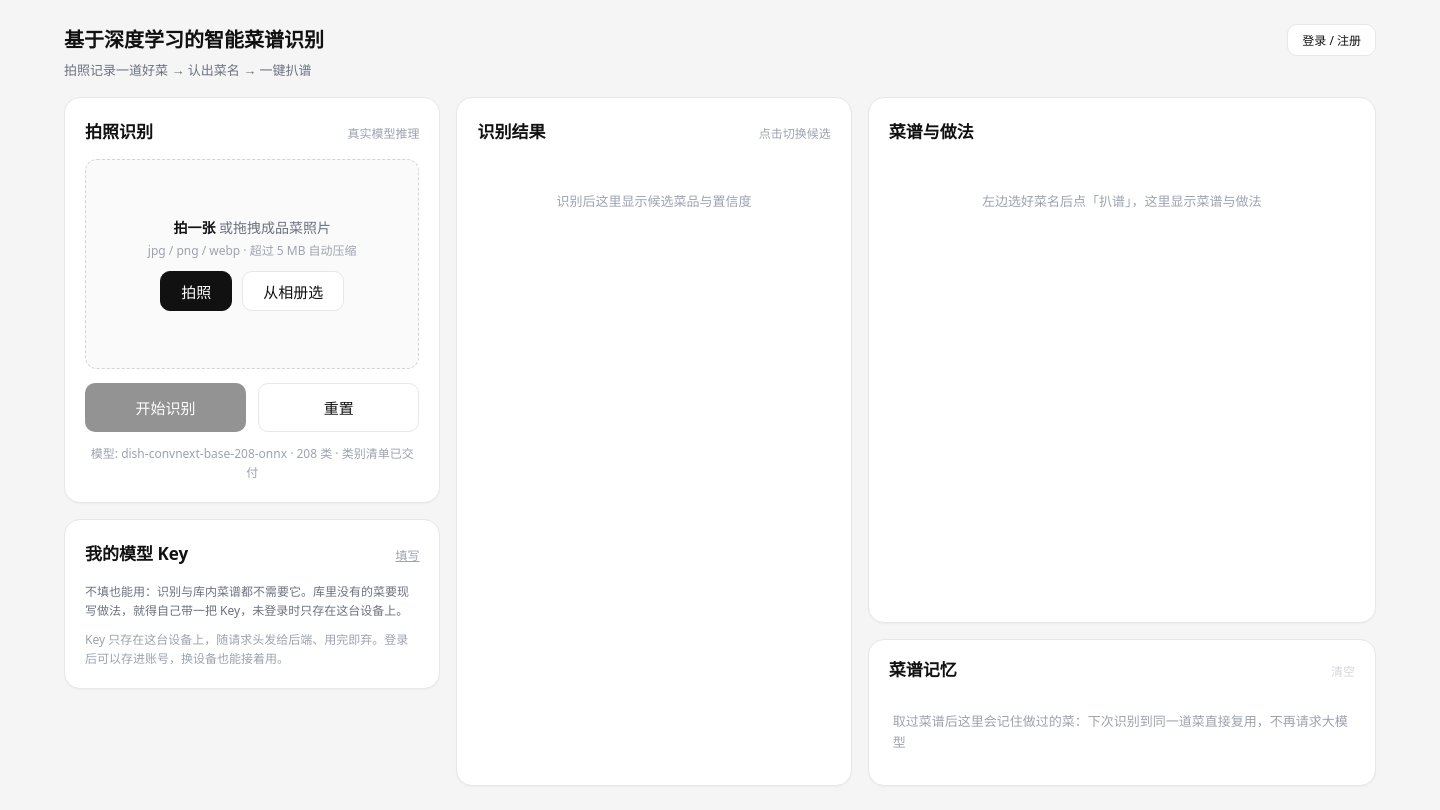
Test: RecipeRecommendPage 账号 › 点登录打开弹窗
This screenshot has width=1440, height=810.
Click the button "登录 / 注册" at (1332, 40), box x1=1287 y1=24 x2=1376 y2=56
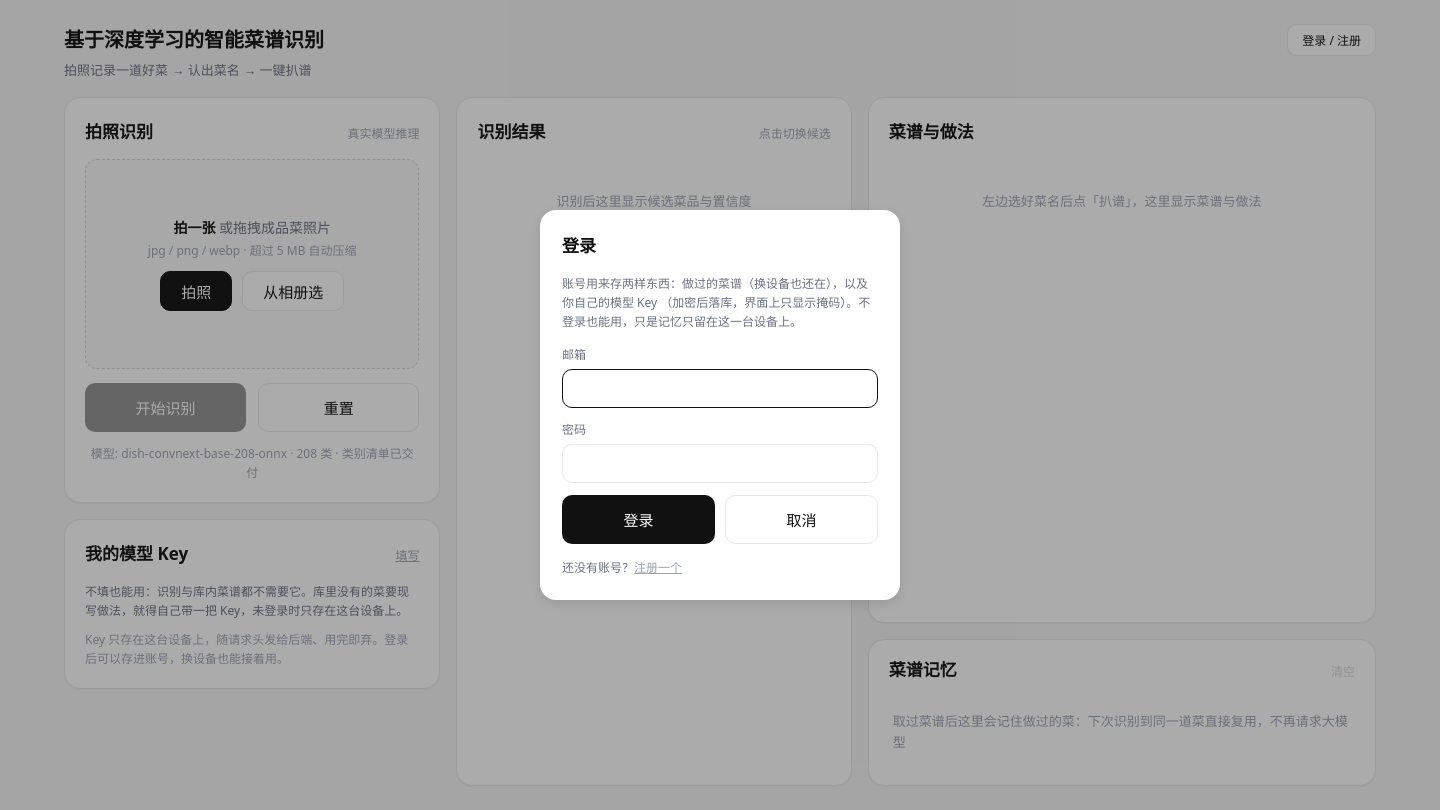
Expected: the dialog "登录" is shown, x1=540 y1=210 x2=900 y2=600
